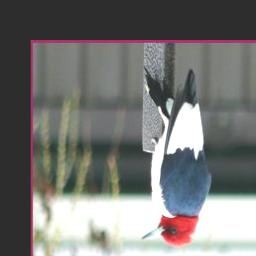Woodpecker: (140, 63, 212, 253)
